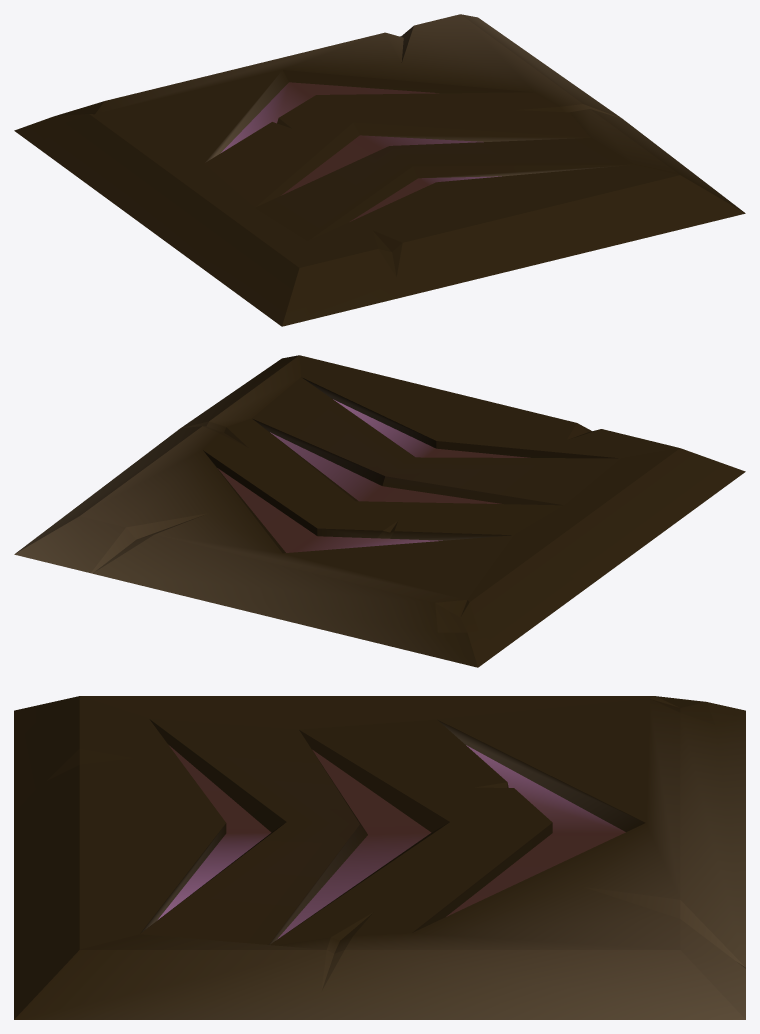
Rendered from preassureplate.fbx.
The picture shows the model from 3 angles, top to bottom: view 1: azimuth 30°, elevation 25°; view 2: azimuth 150°, elevation 25°; view 3: azimuth 270°, elevation 25°; orthographic projection. The views are drawn at different scales.
Visible parts, largest first — view 1: Cube; view 2: Cube; view 3: Cube.
Boxes of the visible parts, x1,y1,x2,y2 form: Cube: (14, 14, 745, 326); Cube: (14, 355, 745, 667); Cube: (14, 696, 745, 1019).
Size of the model in its own units: 200 by 12.77 by 200.
